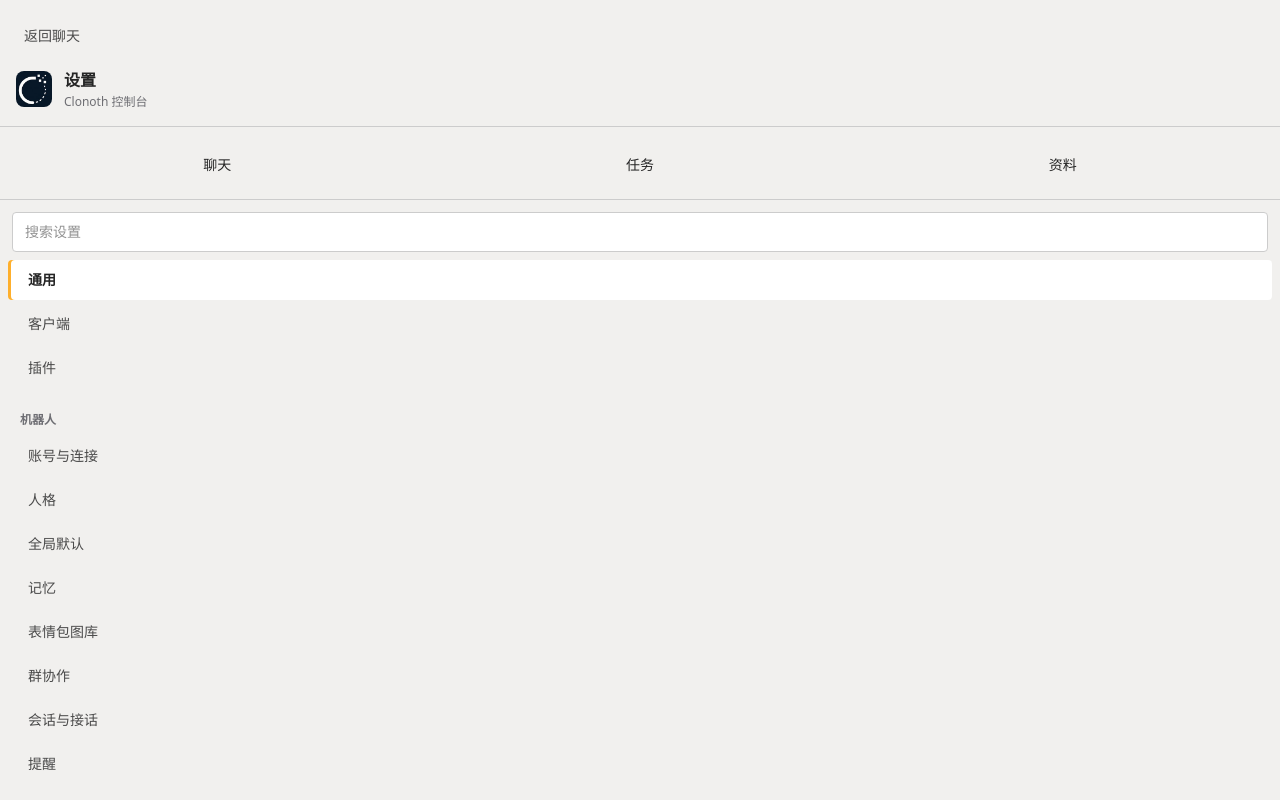
Test case: 侧栏的「平台」组 › 新平台进清单之后，它的分区布局也跟着拉下来，一登录就搜得到
Type "信道" into the search field labelled "搜索设置". click: (640, 232)
box: [12,212,1268,252]
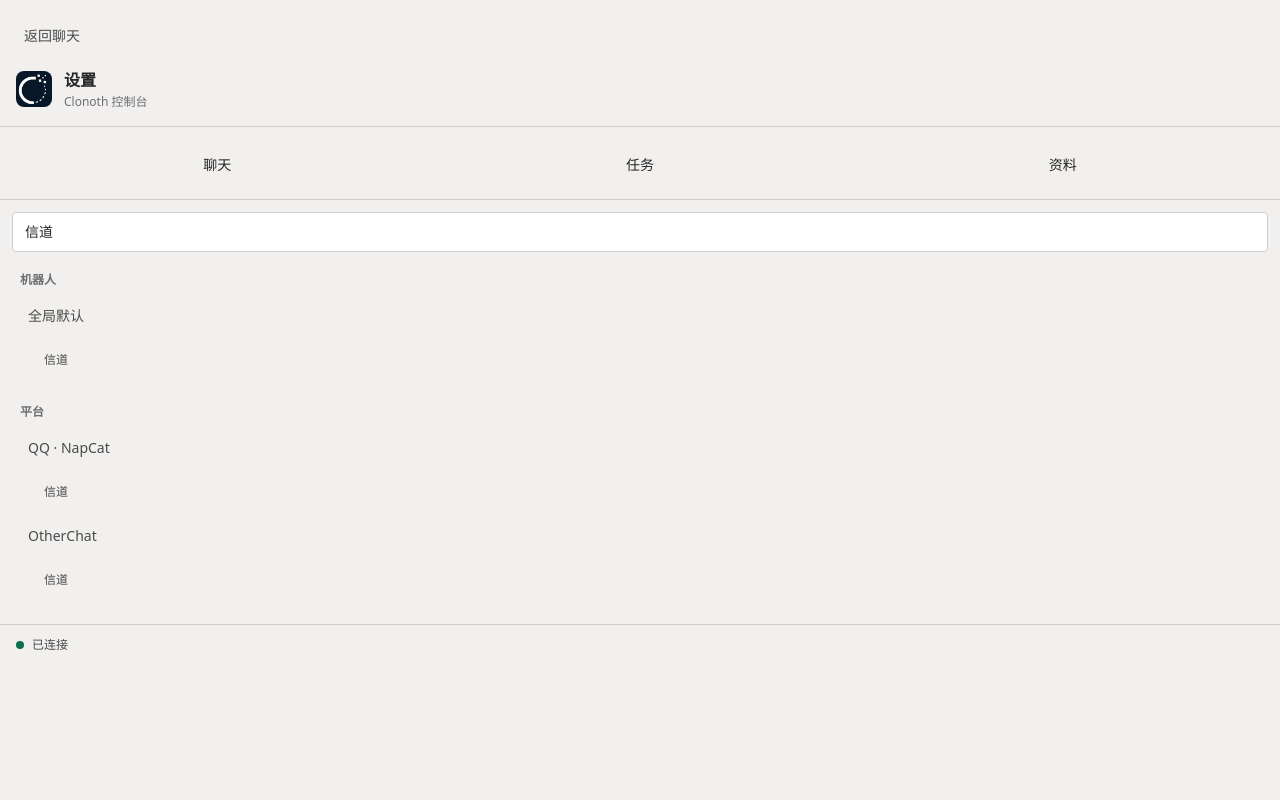
Expected: the button with aria-label "OtherChat：信道" is shown, [8,560,1272,600]
